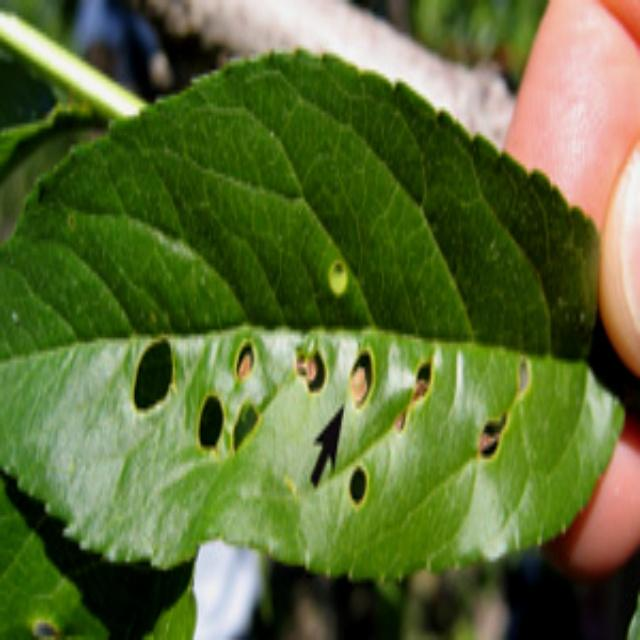shot_hole: (4, 161, 618, 494)
